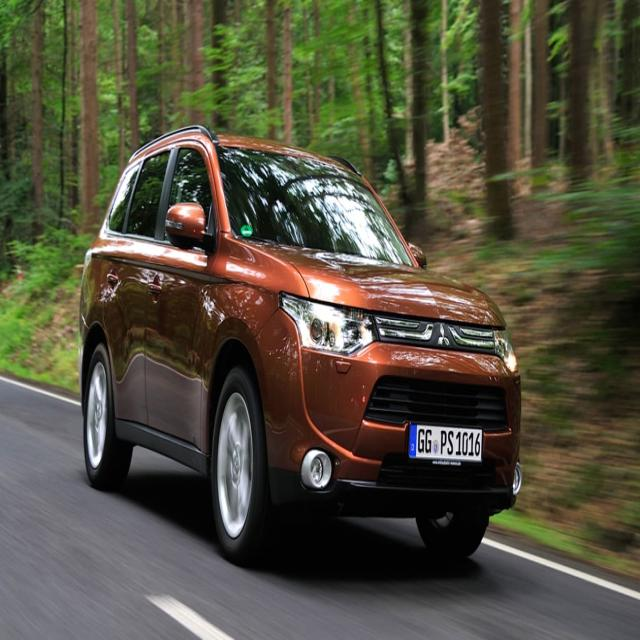light_vehicle: (77, 123, 523, 567)
